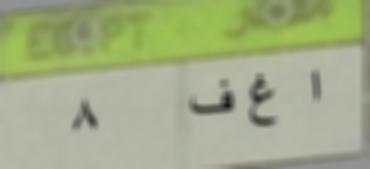8: (66, 94, 101, 138)
alif: (306, 64, 327, 106)
faa: (187, 78, 236, 120)
ghayn: (242, 70, 279, 133)
